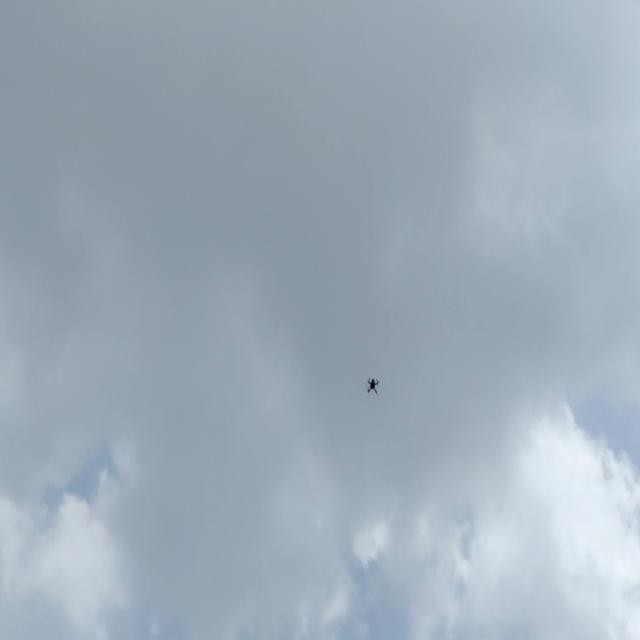drone: (363, 369, 386, 400)
